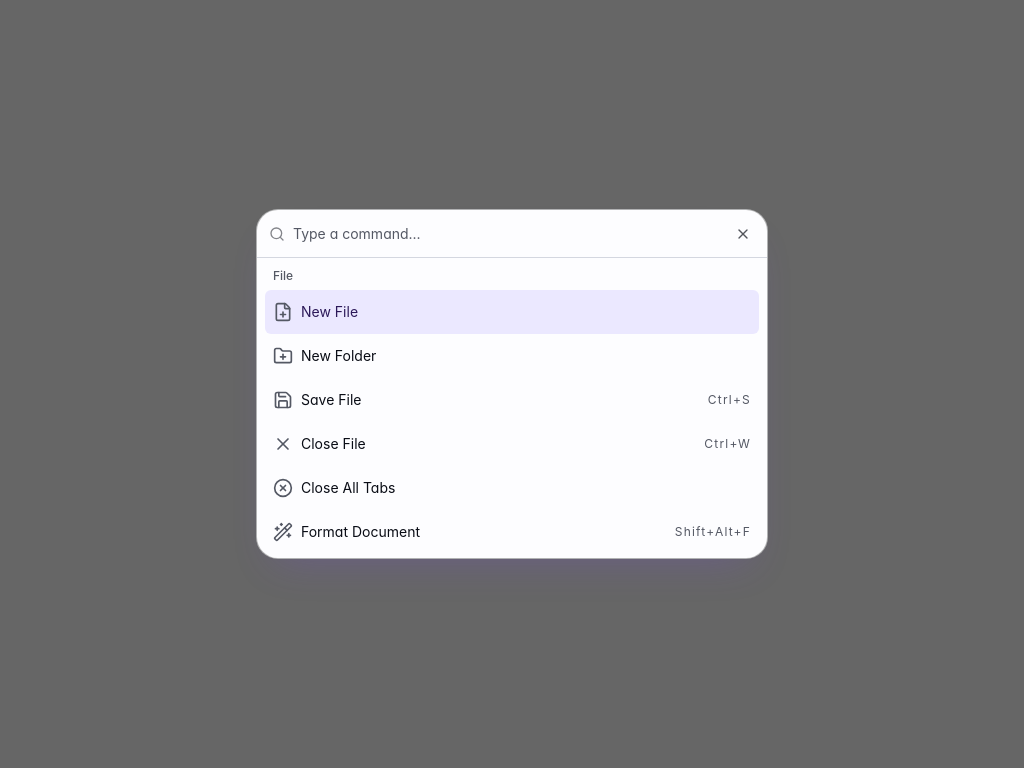
it: CommandPalette › filters commands as the user types
The width and height of the screenshot is (1024, 768).
In the dropdown with placeholder "Type a command...": point(524, 234) [293,210,755,258], type "format"
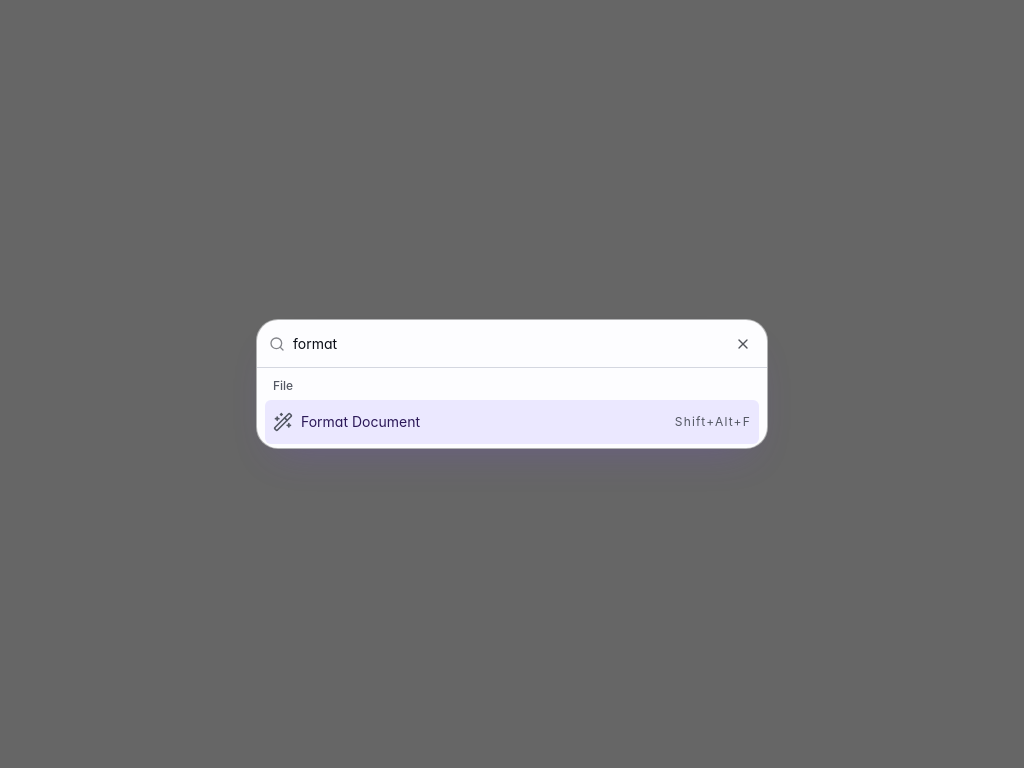
expect the option "Format Document Shift+Alt+F" is shown: met, box [265,400,759,444]
expect the option "New File" is gone: met
